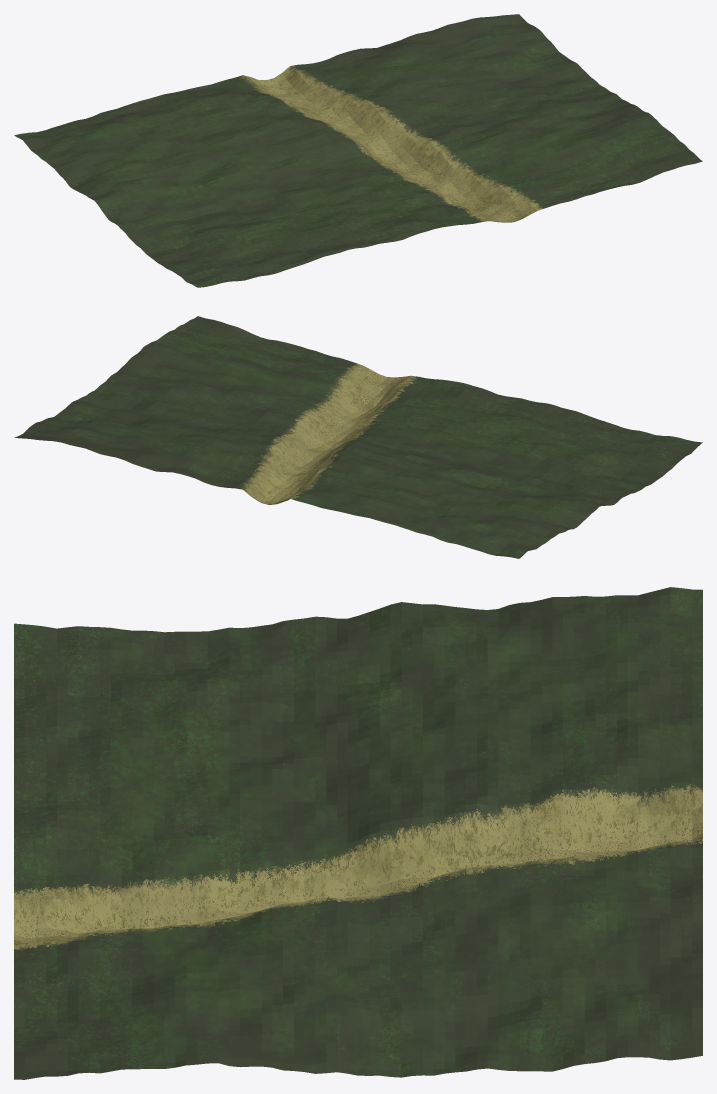
The model's file is TerrenoV2.fbx.
3 views of the same model, one above another, from view 1: azimuth 30°, elevation 25°; view 2: azimuth 150°, elevation 25°; view 3: azimuth 270°, elevation 25° (orthographic). The views are drawn at different scales.
Visible parts, largest first — view 1: Plane; view 2: Plane; view 3: Plane.
Part boxes in pixels (box(x1,y1,x2,y2)): Plane: box(14, 14, 702, 287); Plane: box(14, 316, 702, 558); Plane: box(14, 587, 702, 1079).
Bounding box in the file's own units: 29914 × 2402 × 18853.
Materials: 1 (1 with a texture image).
